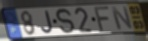2: (75, 7, 94, 34)
8: (20, 10, 36, 37)
F: (94, 6, 112, 33)
J: (40, 10, 54, 35)
N: (110, 6, 135, 32)
S: (55, 8, 76, 36)
